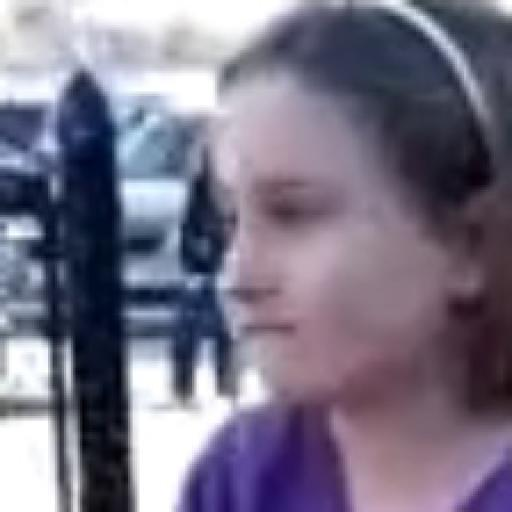Autism: (173, 22, 512, 462)
